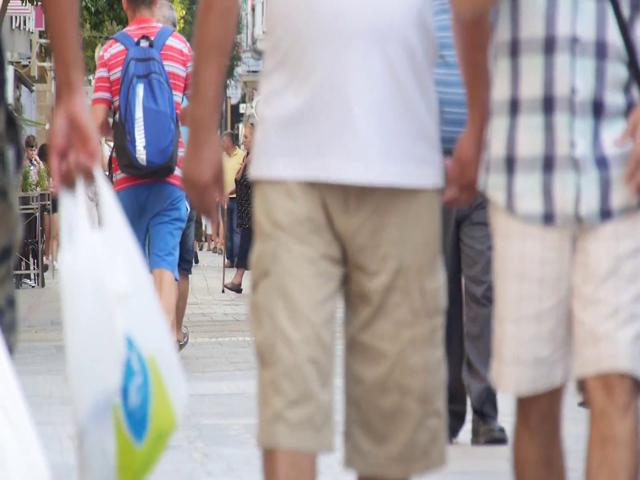shoe: (224, 279, 243, 295)
